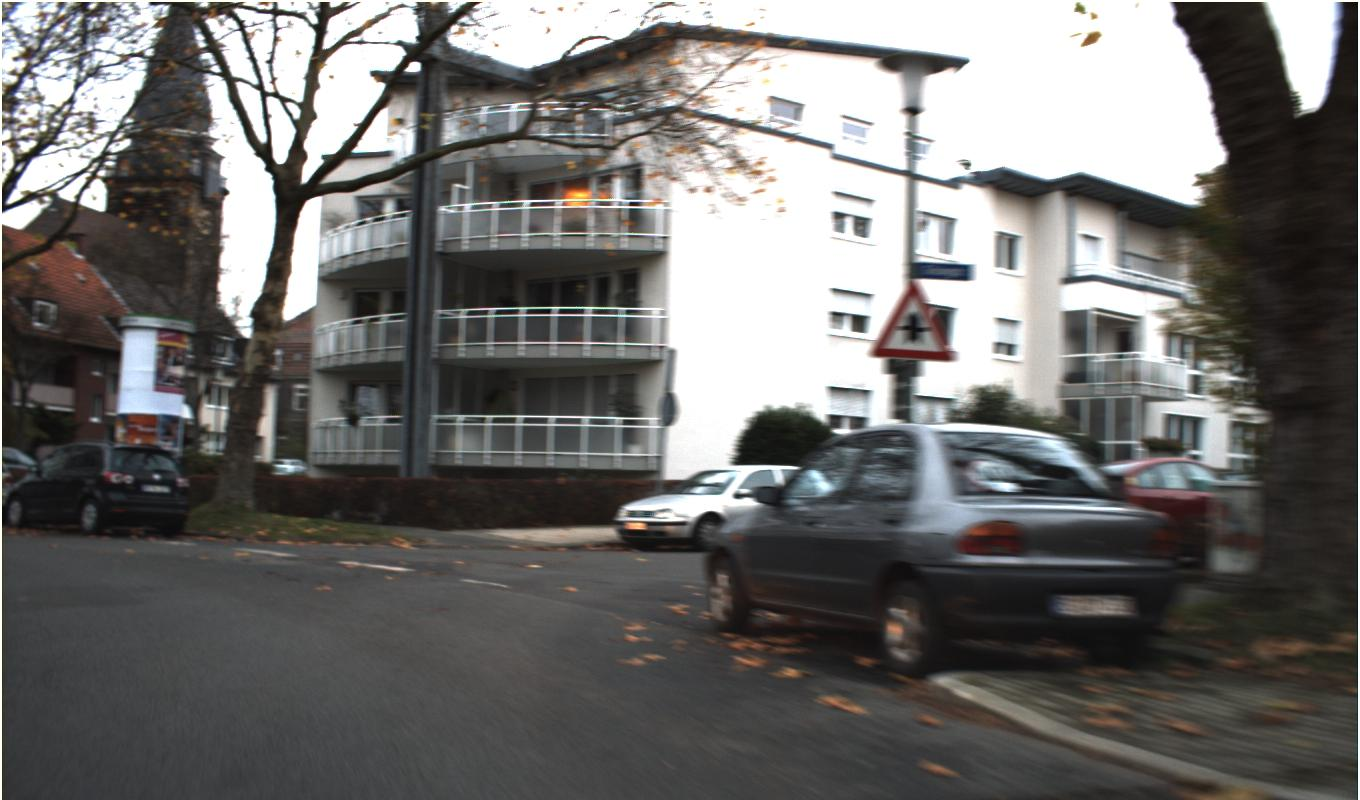danger: (867, 278, 956, 361)
